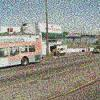buses: (0, 31, 43, 69)
